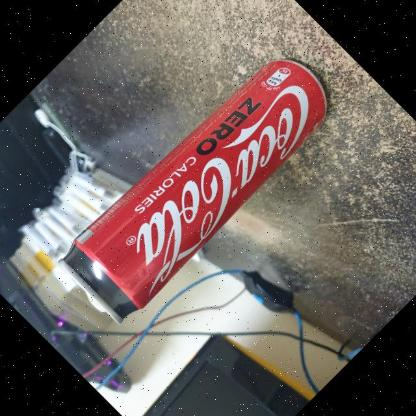Can: (36, 20, 362, 346)
